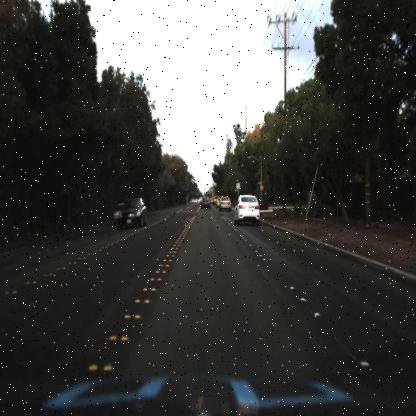car: (234, 193, 263, 228), (114, 200, 148, 227), (218, 194, 229, 215), (200, 197, 212, 213)
